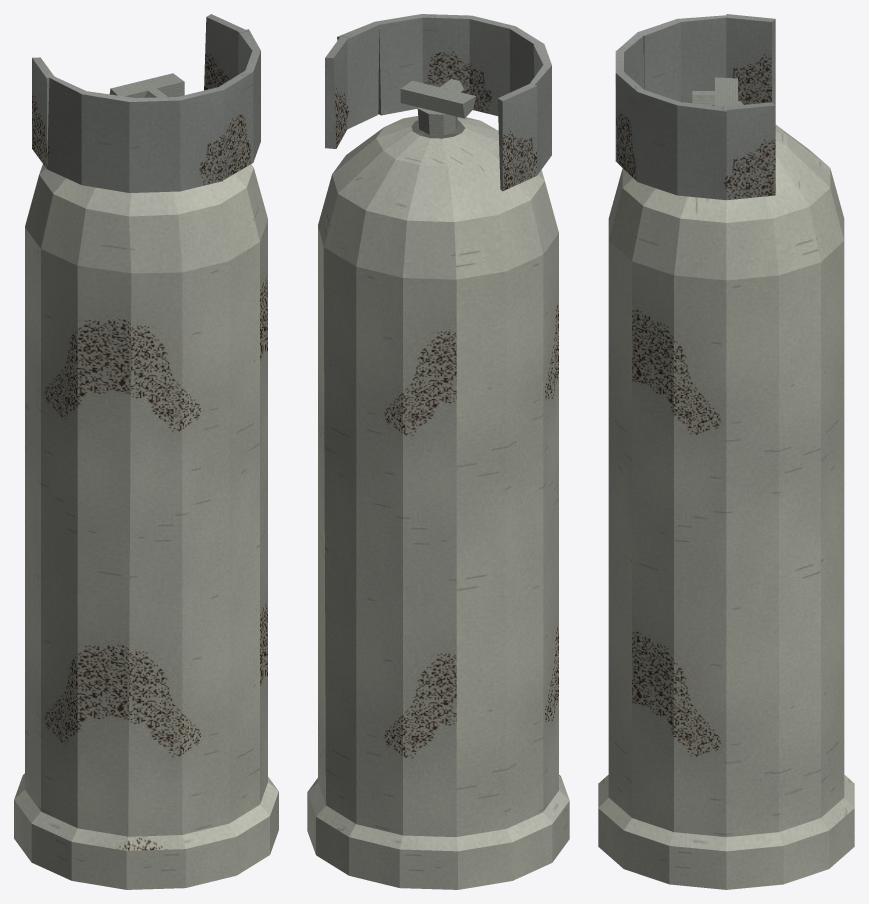
The model's file is propane_v3.glb.
The picture shows the model from 3 angles, left to right: view 1: azimuth 30°, elevation 25°; view 2: azimuth 150°, elevation 25°; view 3: azimuth 270°, elevation 25°; orthographic projection.
Parts seen in each view (by area): view 1: Variant_propane_3; view 2: Variant_propane_3; view 3: Variant_propane_3.
Boxes of the visible parts, x1,y1,x2,y2 form: Variant_propane_3: (14, 14, 278, 889); Variant_propane_3: (307, 14, 569, 889); Variant_propane_3: (598, 14, 854, 889).
Bounding box in the file's own units: 0.37 × 1.2 × 0.3607.
3 materials, 3 textured.
